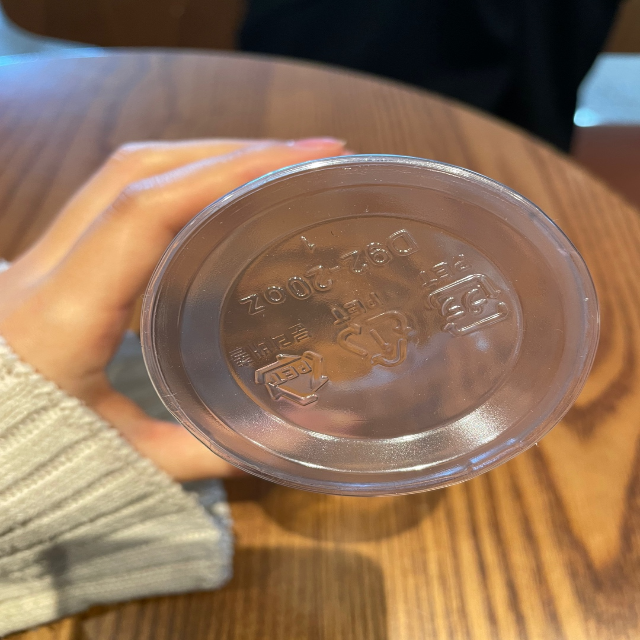pet: (223, 319, 337, 409), (413, 250, 520, 339), (327, 287, 422, 373)
